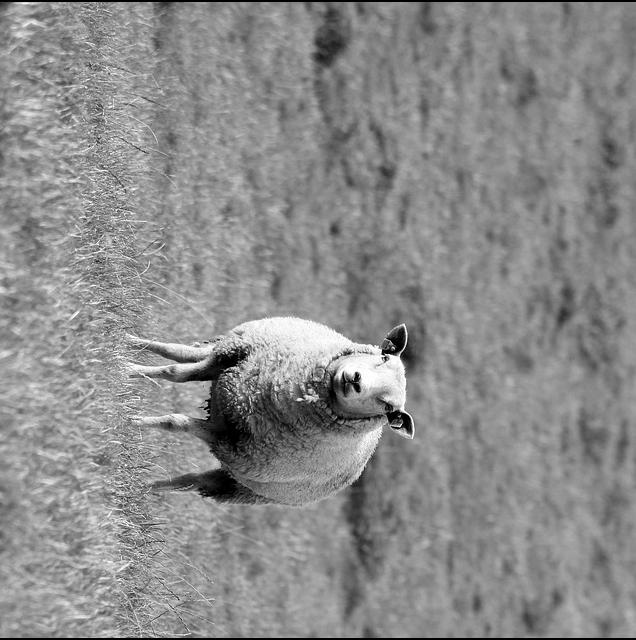Non_Gorille: (86, 269, 442, 582)
